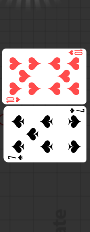10H: (67, 50, 83, 57)
7C: (6, 154, 24, 161)
